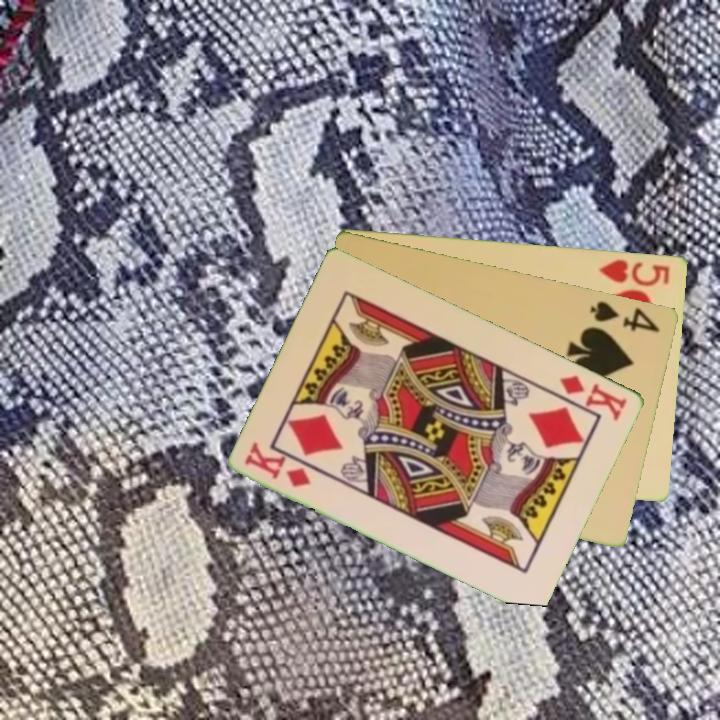4s: (587, 297, 664, 335)
5h: (596, 256, 673, 289)
Kd: (556, 371, 631, 423), (241, 440, 315, 490)
